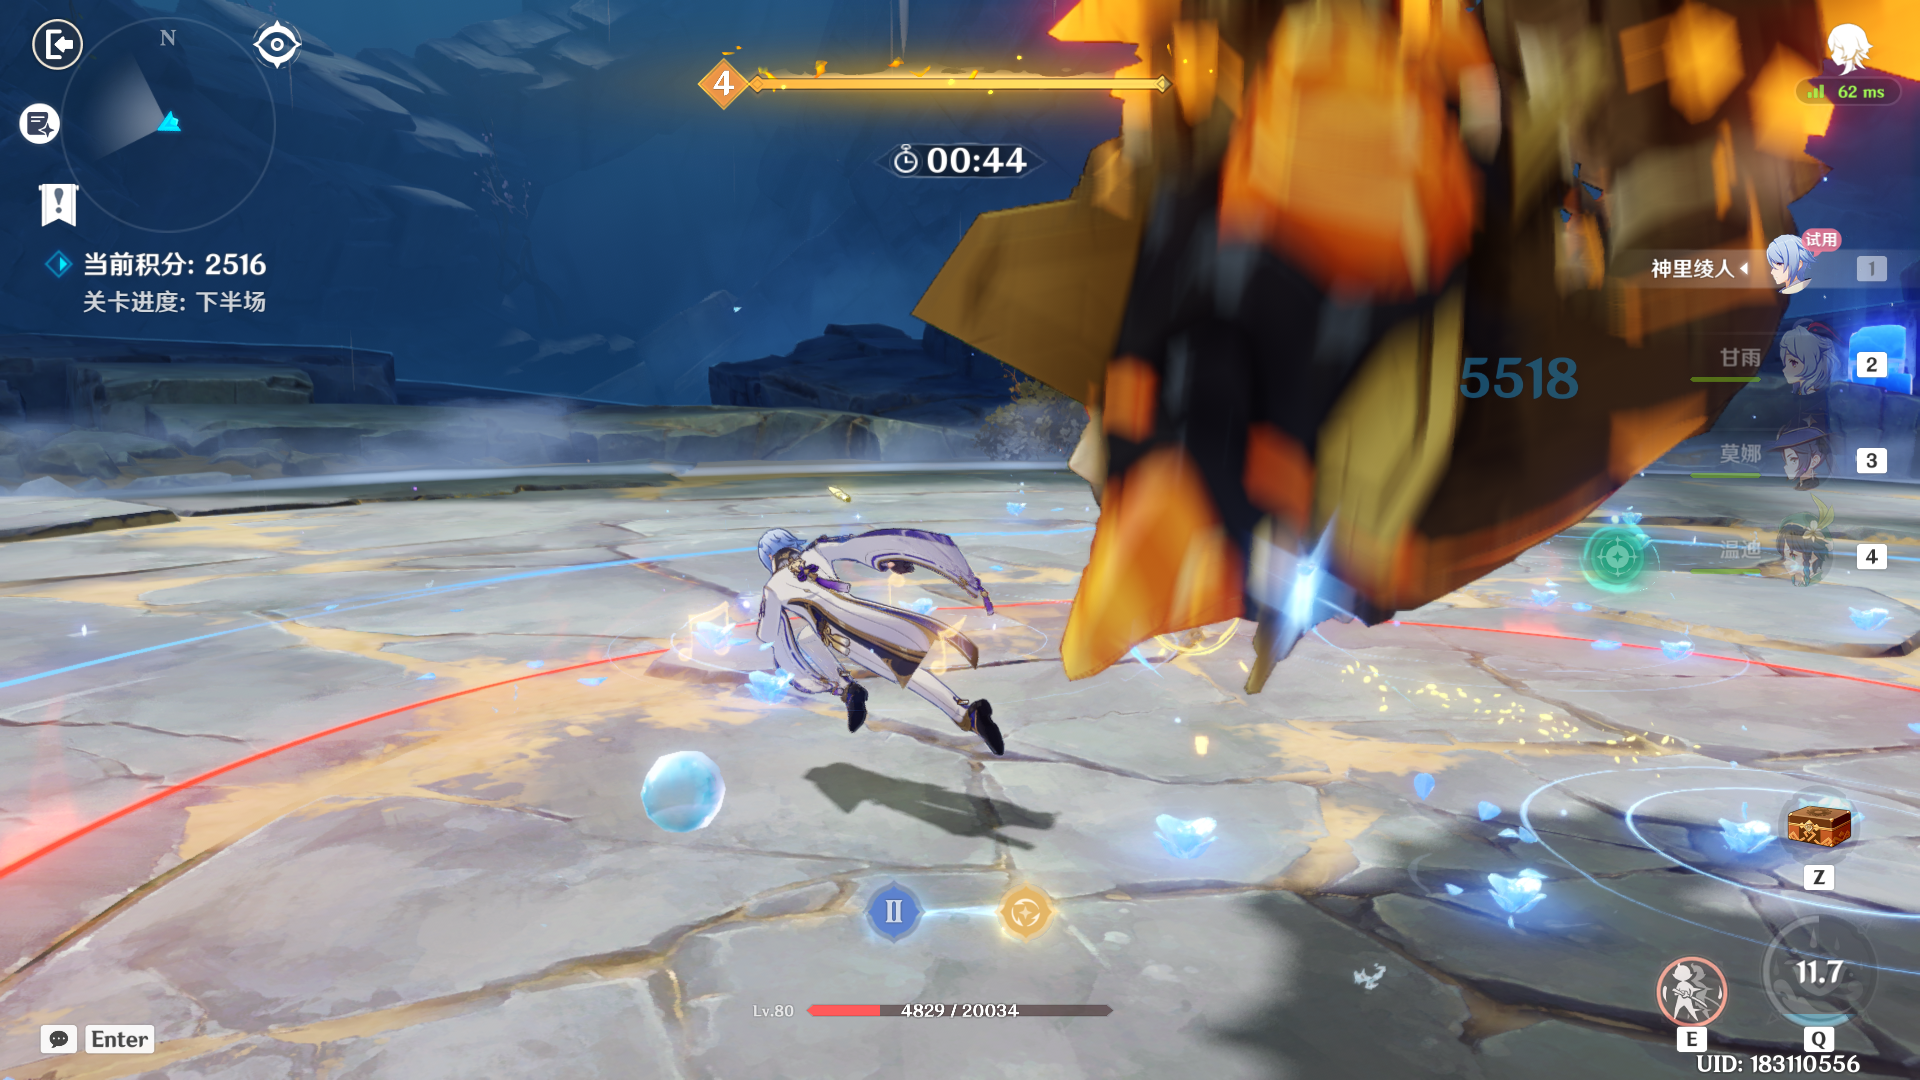character: (626, 458, 1052, 781)
